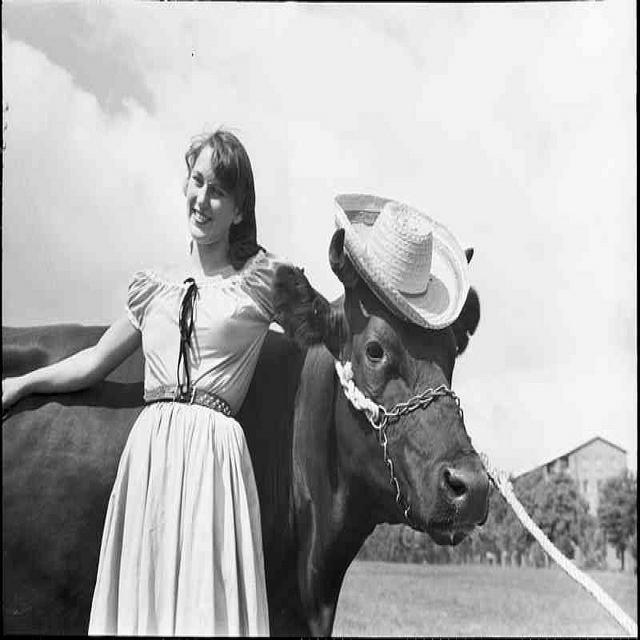cow: (0, 216, 495, 631)
